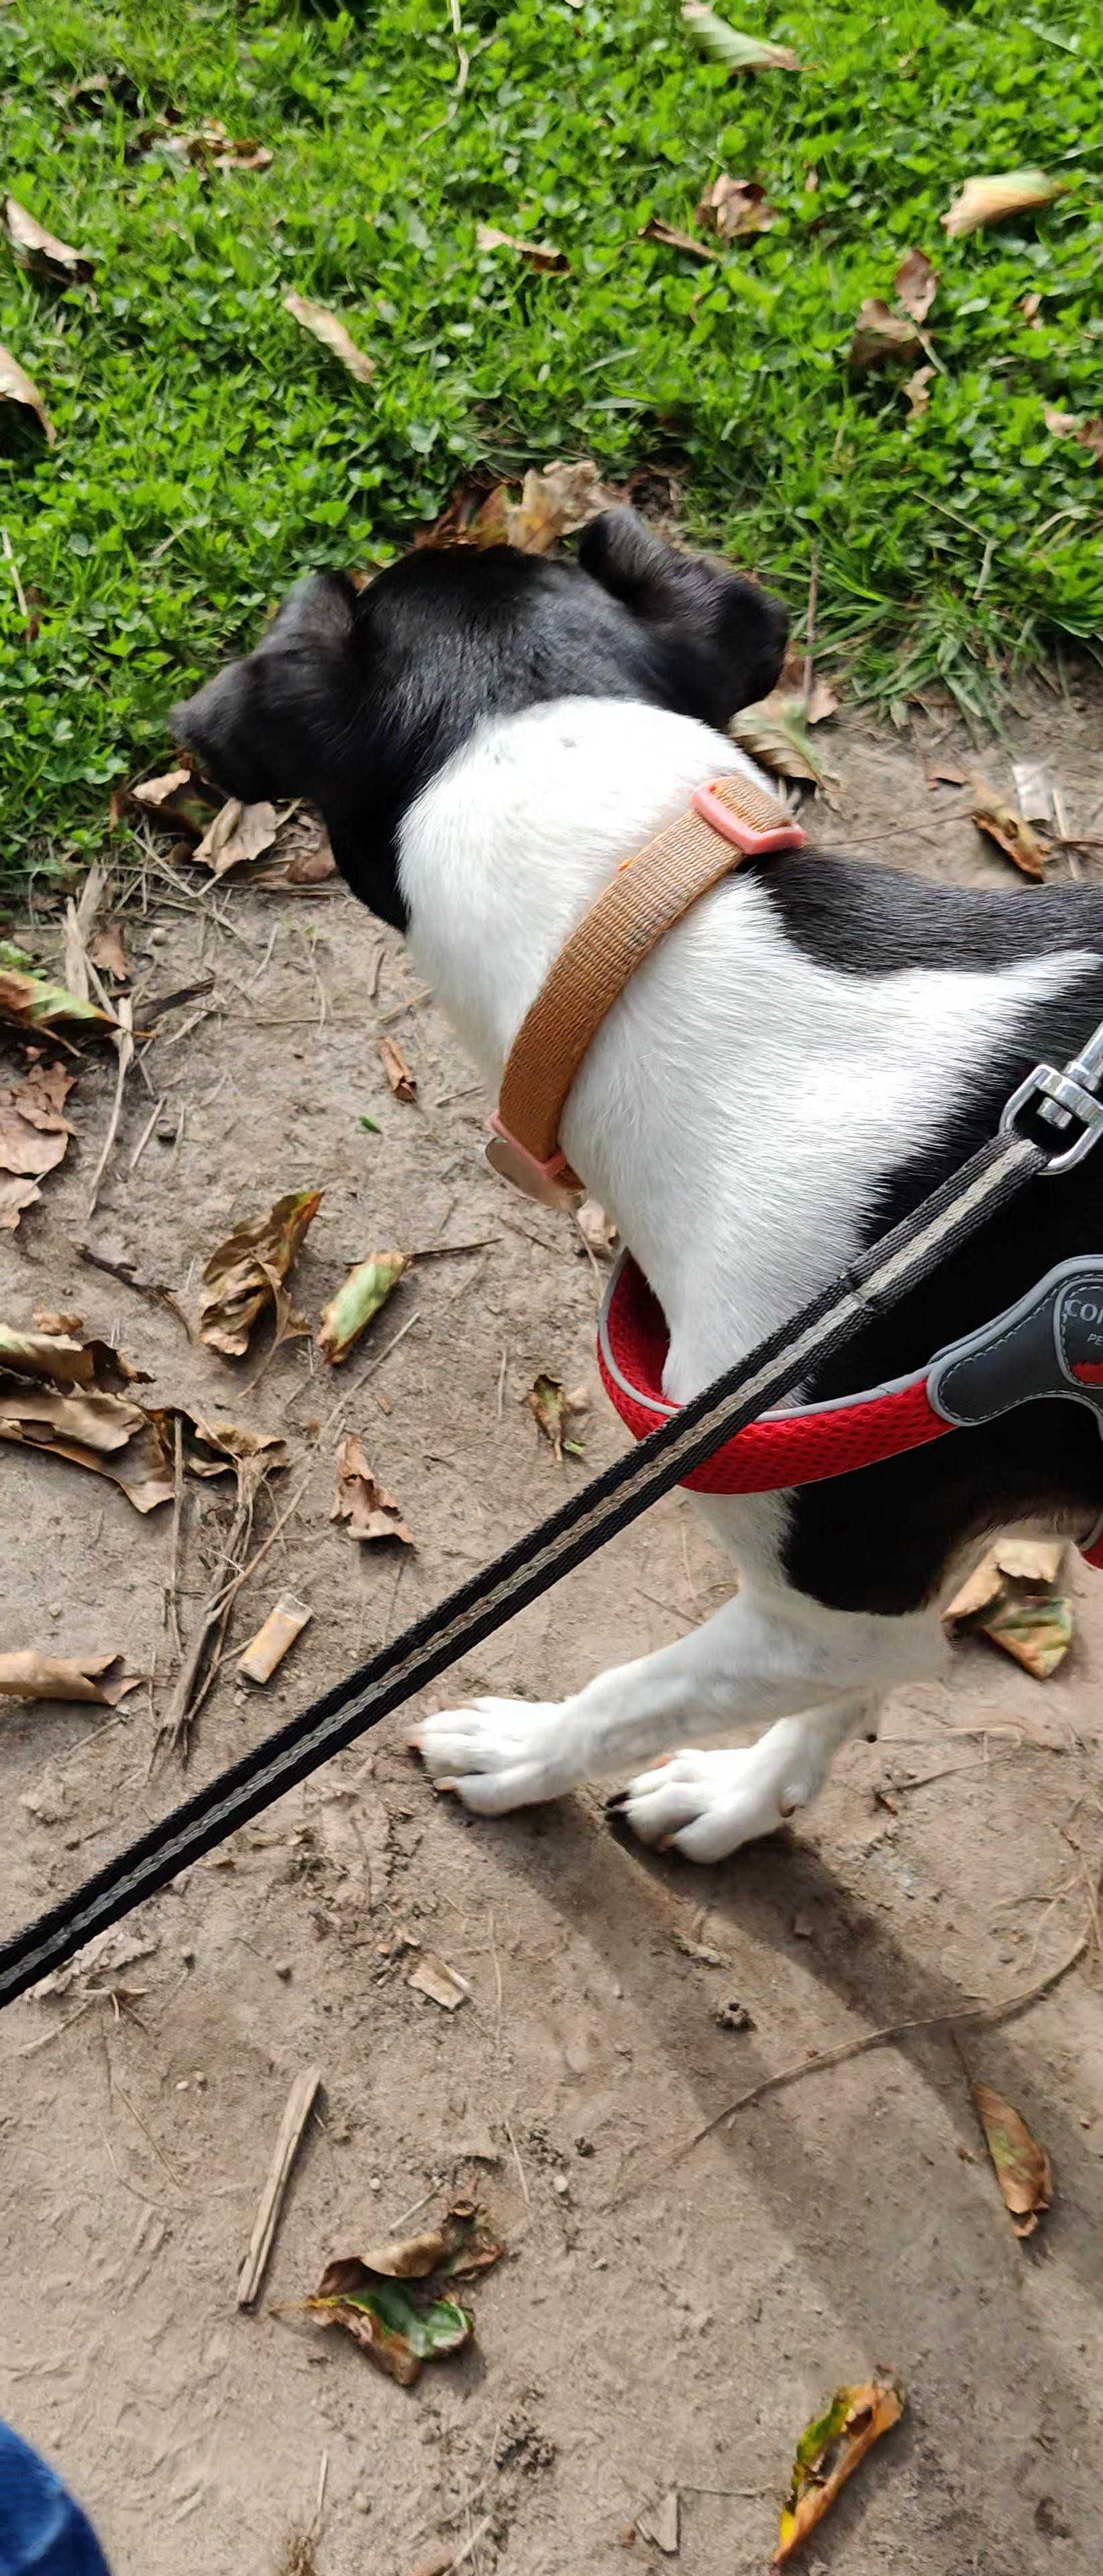Dog: (133, 448, 1103, 1914)
